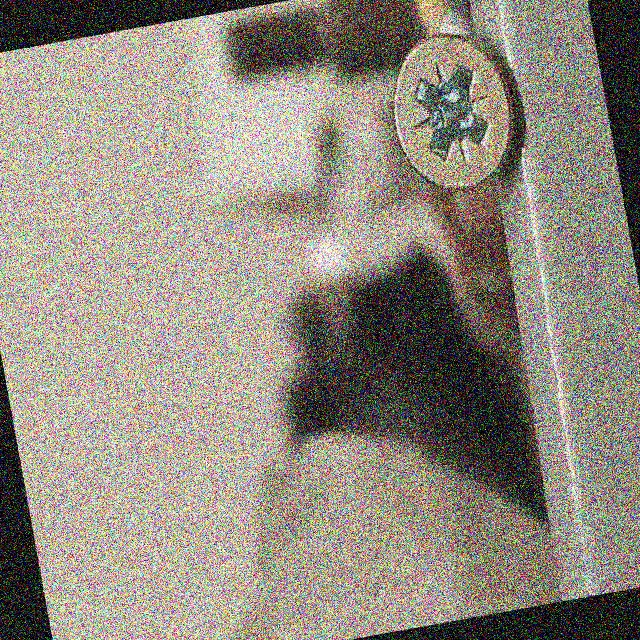pozidriv: (379, 25, 528, 201)
